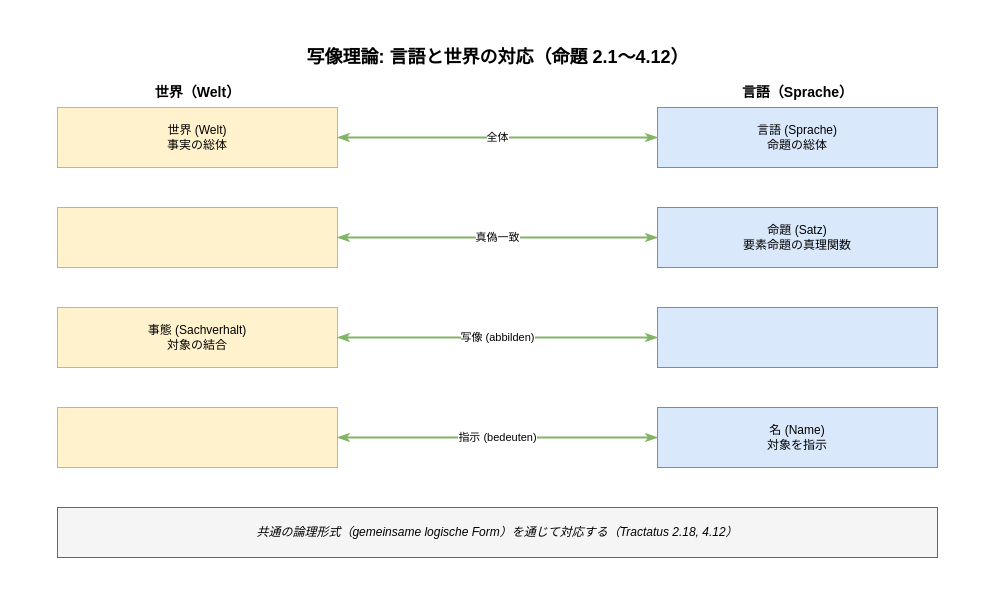
This 994x614 diagram has some shape labels left out. Here are the shapes that lost their labels. From the top down, the centre of each, then its label:
pixel 197 237: 事実 (Tatsache) 事態の成立
pixel 797 337: 要素命題 (Elementarsatz) 名の結合
pixel 197 437: 対象 (Gegenstand) 単純・不変
